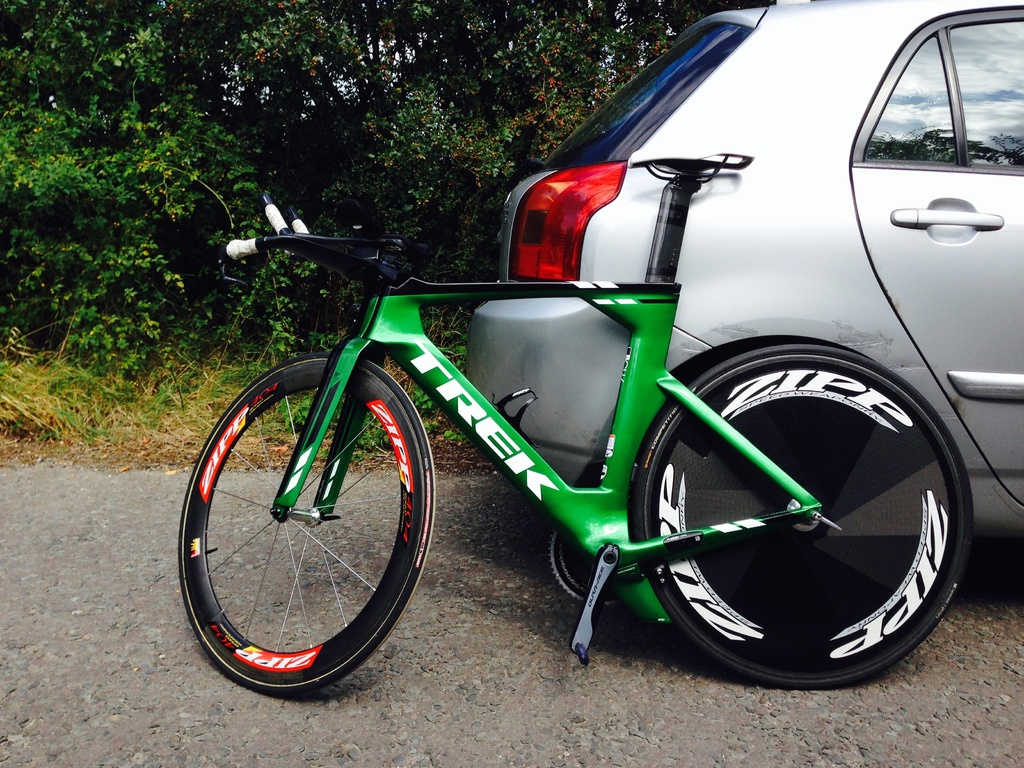Car: (463, 0, 1023, 547)
